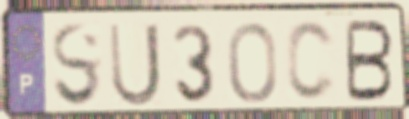3: (171, 22, 217, 105)
B: (344, 18, 396, 104)
C: (284, 19, 338, 105)
O: (225, 20, 279, 106)
S: (49, 20, 104, 111)
U: (106, 21, 164, 109)
